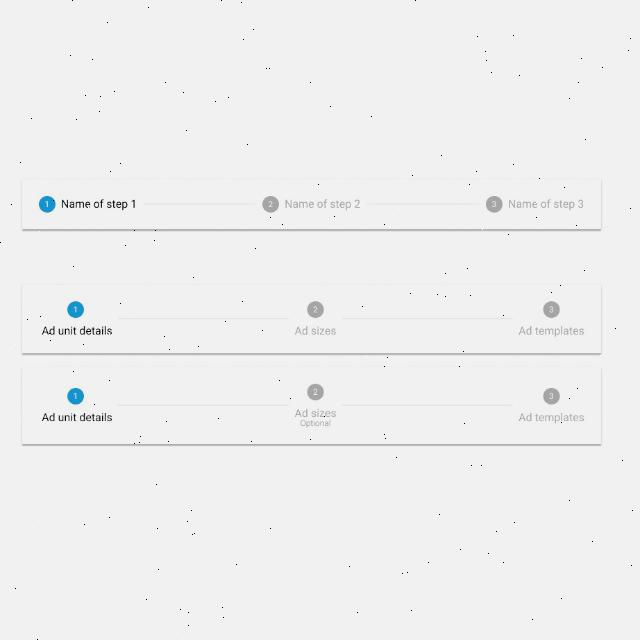QLabel: (59, 198, 135, 212), (508, 198, 584, 210), (294, 408, 336, 428), (518, 326, 584, 338), (284, 200, 362, 210), (41, 412, 111, 423), (42, 326, 112, 336), (519, 414, 585, 424), (294, 326, 336, 336)
VDivider: (341, 404, 513, 408), (142, 202, 258, 206), (117, 318, 289, 320), (342, 318, 514, 320), (117, 405, 289, 407), (366, 203, 480, 205)
VStepper: (21, 368, 601, 446), (22, 285, 602, 355), (22, 178, 602, 230)
